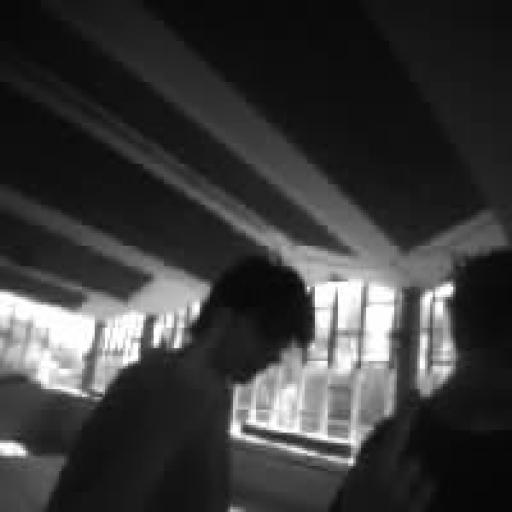human: (47, 256, 314, 511), (331, 249, 511, 511)
